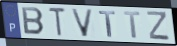B: (20, 6, 46, 37)
T: (48, 6, 67, 38), (122, 11, 142, 40), (98, 10, 117, 38)
V: (69, 8, 95, 39)
Z: (146, 10, 171, 42)
